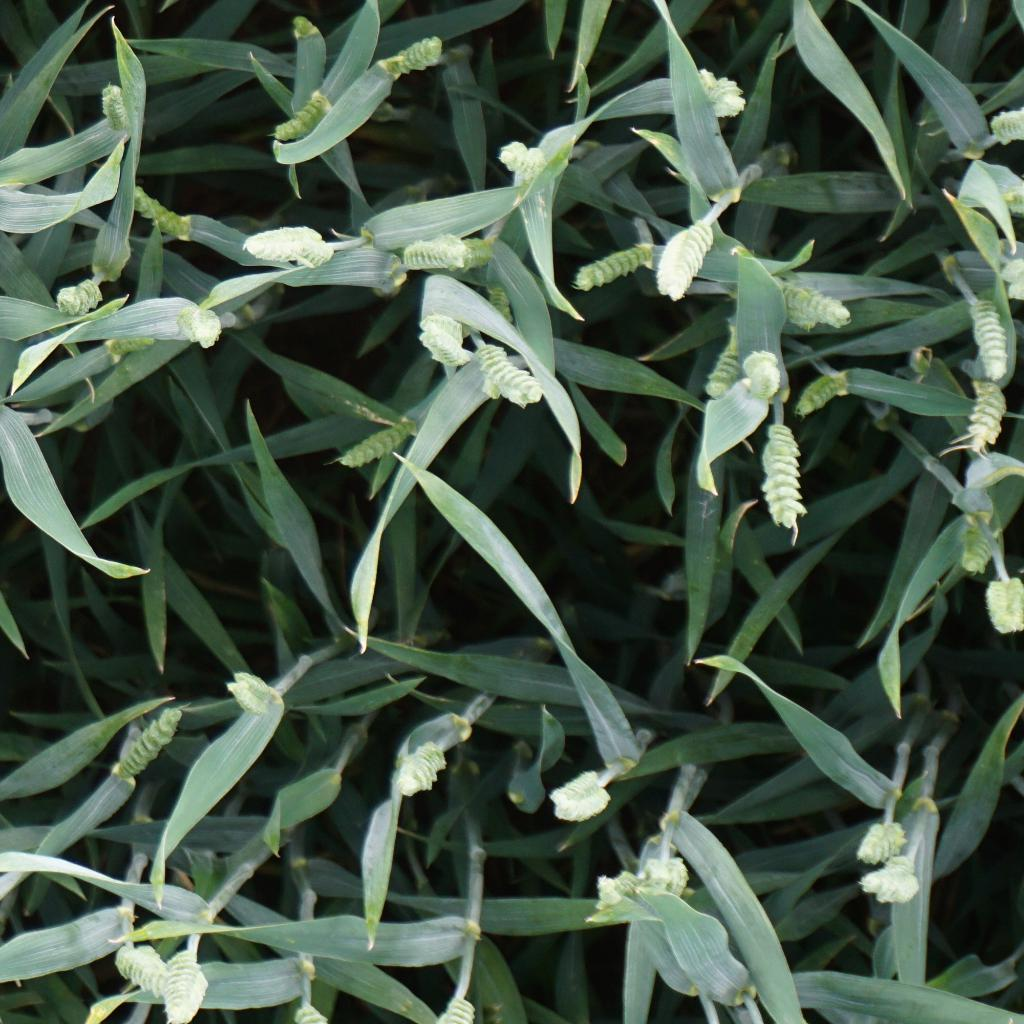0-0: (648, 205, 721, 306), (757, 407, 813, 538), (753, 271, 854, 337), (235, 210, 339, 273), (459, 339, 550, 408), (112, 702, 187, 783), (955, 291, 1020, 381), (338, 408, 426, 472), (109, 932, 196, 996), (106, 169, 187, 236), (545, 756, 617, 828), (679, 60, 753, 126), (701, 310, 749, 407), (163, 943, 219, 1024), (961, 361, 1008, 457), (571, 243, 652, 298), (223, 659, 291, 722), (397, 226, 476, 279), (971, 559, 1024, 638), (272, 83, 339, 144), (856, 853, 922, 911), (390, 736, 452, 797), (638, 847, 698, 909), (956, 489, 998, 577), (405, 324, 480, 373), (856, 808, 915, 869), (792, 367, 858, 419), (584, 864, 645, 917), (740, 343, 791, 403), (487, 133, 551, 180), (45, 280, 112, 323), (436, 229, 502, 272), (392, 28, 450, 73), (176, 301, 227, 352), (780, 275, 820, 334), (406, 311, 469, 347), (89, 79, 132, 131), (983, 102, 1024, 148), (104, 331, 165, 359), (476, 279, 513, 324)
